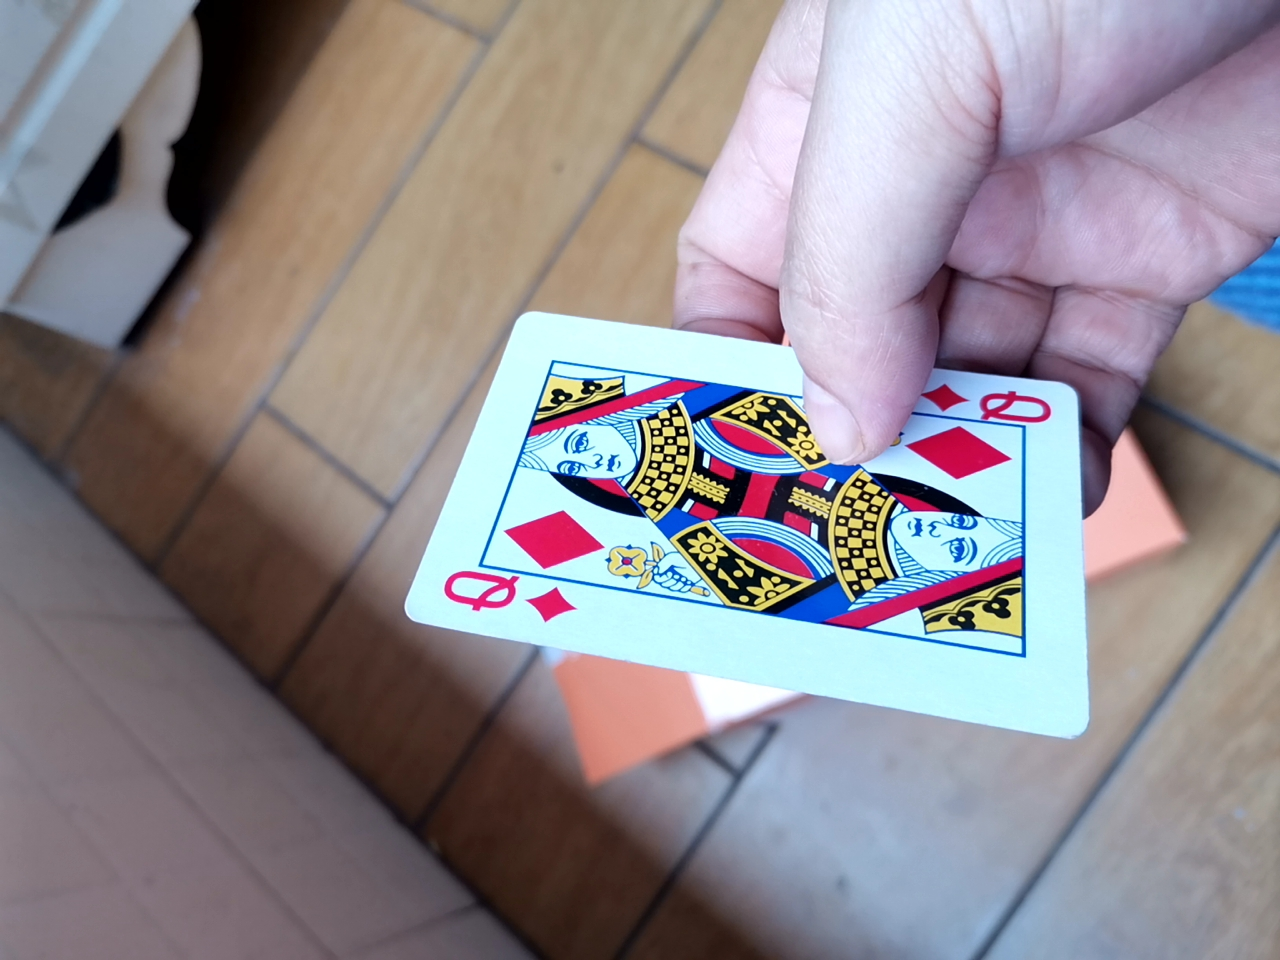fk q: (385, 308, 1105, 743)
